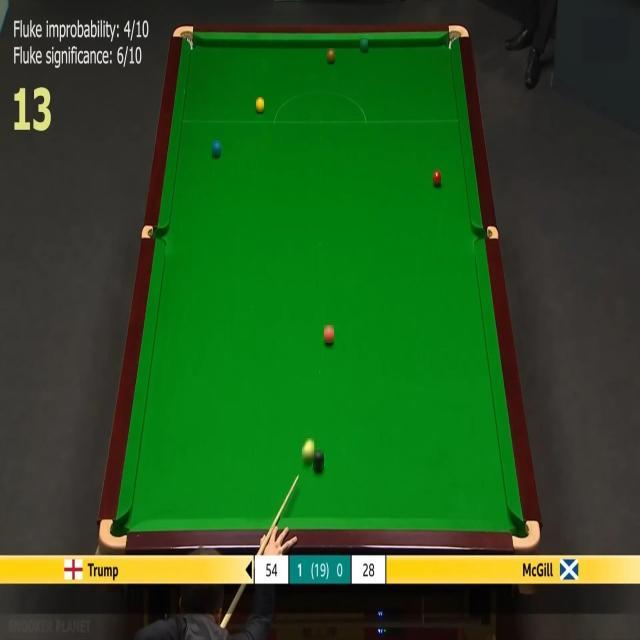Ball: (302, 438, 314, 462), (313, 450, 324, 470), (324, 325, 334, 343), (212, 140, 221, 156), (433, 170, 441, 185), (256, 97, 264, 112), (327, 48, 335, 62), (361, 38, 368, 51)
